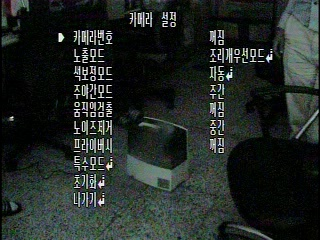smoke: (158, 120, 178, 133)
